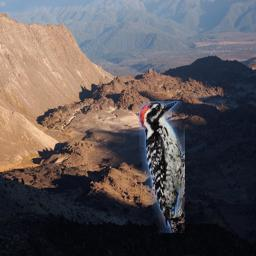Woodpecker: (139, 101, 185, 233)
